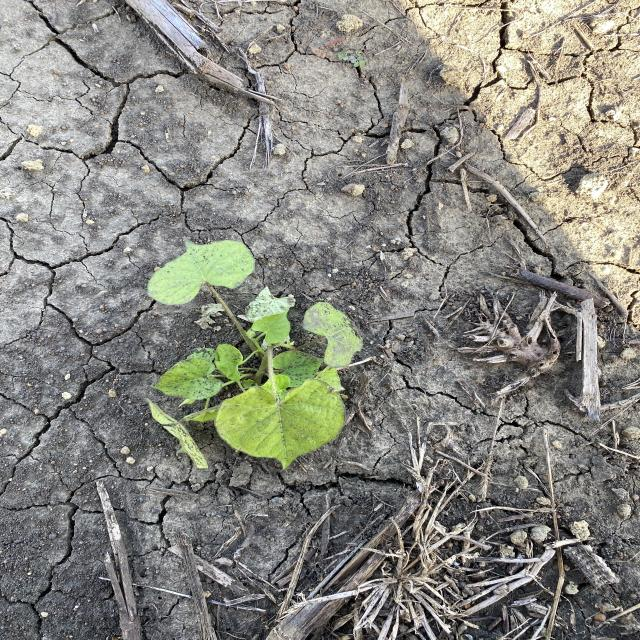MorningGlory: (142, 235, 365, 473)
